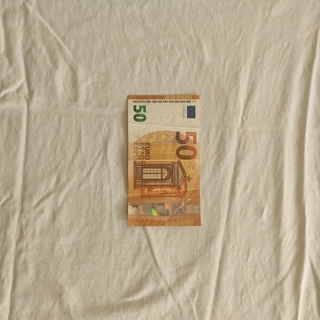50EUROFront: (126, 93, 201, 227)
